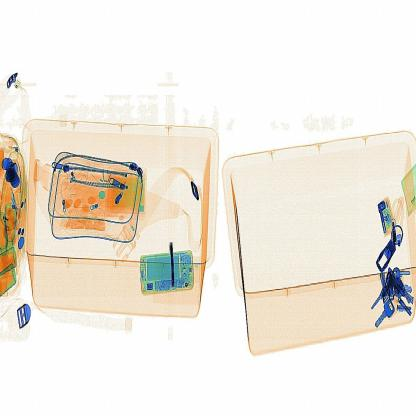knife: (164, 237, 184, 299)
